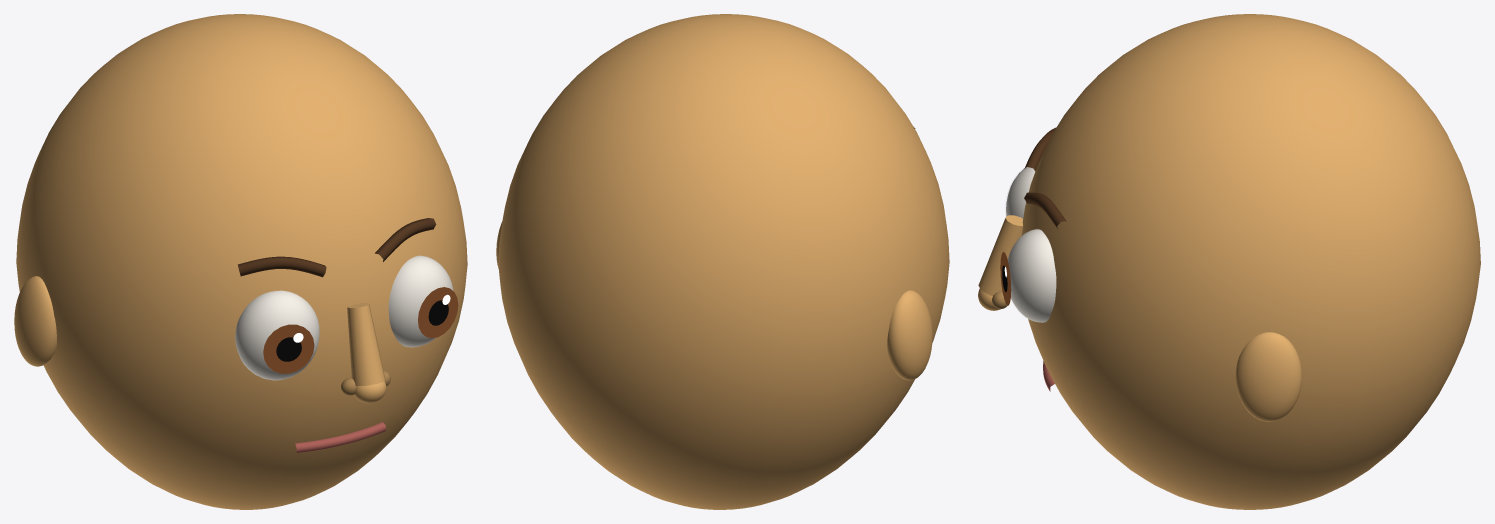
Rendered from 09-lumineux.glb.
3 renders of one model, left to right at view 1: azimuth 30°, elevation 25°; view 2: azimuth 150°, elevation 25°; view 3: azimuth 270°, elevation 25°, orthographic.
Bounding box in the file's own units: 0.3087 × 0.321 × 0.3166.
